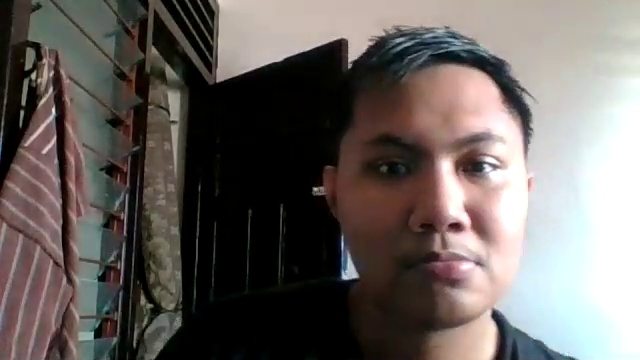Not Distracted: (316, 81, 540, 325)
